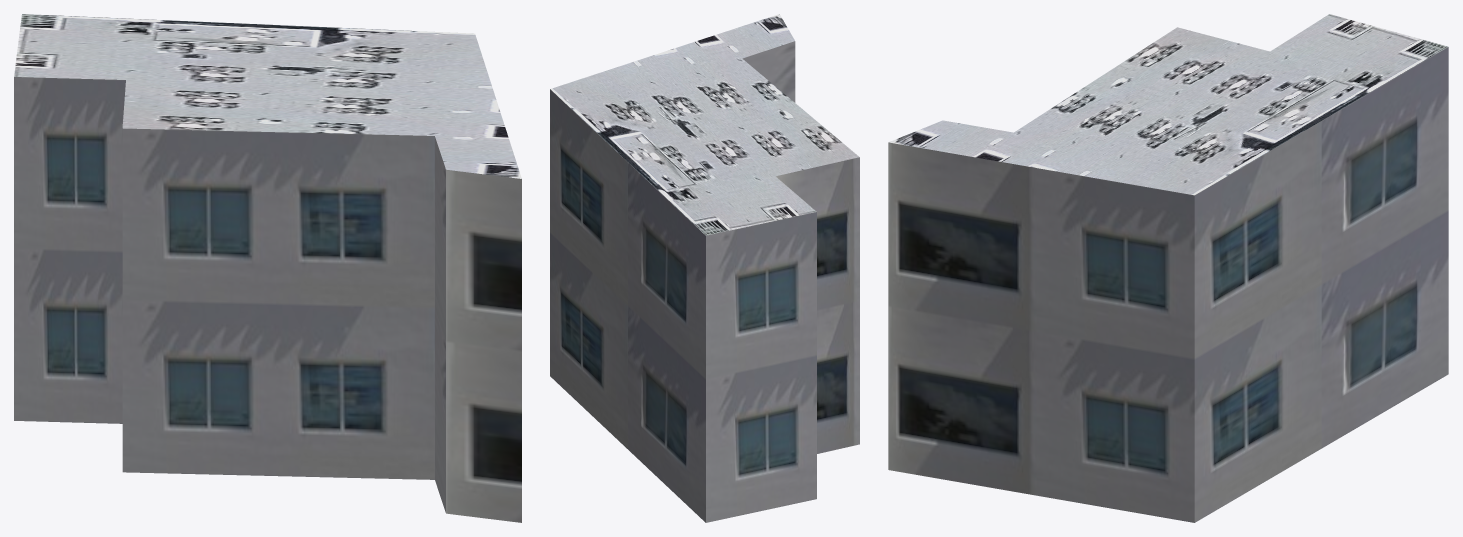
Rendered from ResTex__2056.fbx.
The picture shows the model from 3 angles, left to right: view 1: azimuth 30°, elevation 25°; view 2: azimuth 150°, elevation 25°; view 3: azimuth 270°, elevation 25°; orthographic projection. The views are drawn at different scales.
Visible parts, largest first — view 1: CityEngineMaterial_10_m, CityEngineMaterial_8_m; view 2: CityEngineMaterial_10_m, CityEngineMaterial_8_m; view 3: CityEngineMaterial_10_m, CityEngineMaterial_8_m.
Part boxes in pixels (left/top/right/bottom): CityEngineMaterial_10_m: left=14, top=77, right=521, bottom=522; CityEngineMaterial_8_m: left=14, top=14, right=521, bottom=178; CityEngineMaterial_10_m: left=550, top=41, right=859, bottom=522; CityEngineMaterial_8_m: left=550, top=14, right=859, bottom=235; CityEngineMaterial_10_m: left=888, top=47, right=1448, bottom=522; CityEngineMaterial_8_m: left=889, top=14, right=1448, bottom=195.
Size of the model in its own units: 7.12 by 6 by 9.3.
2 materials, 2 textured.
